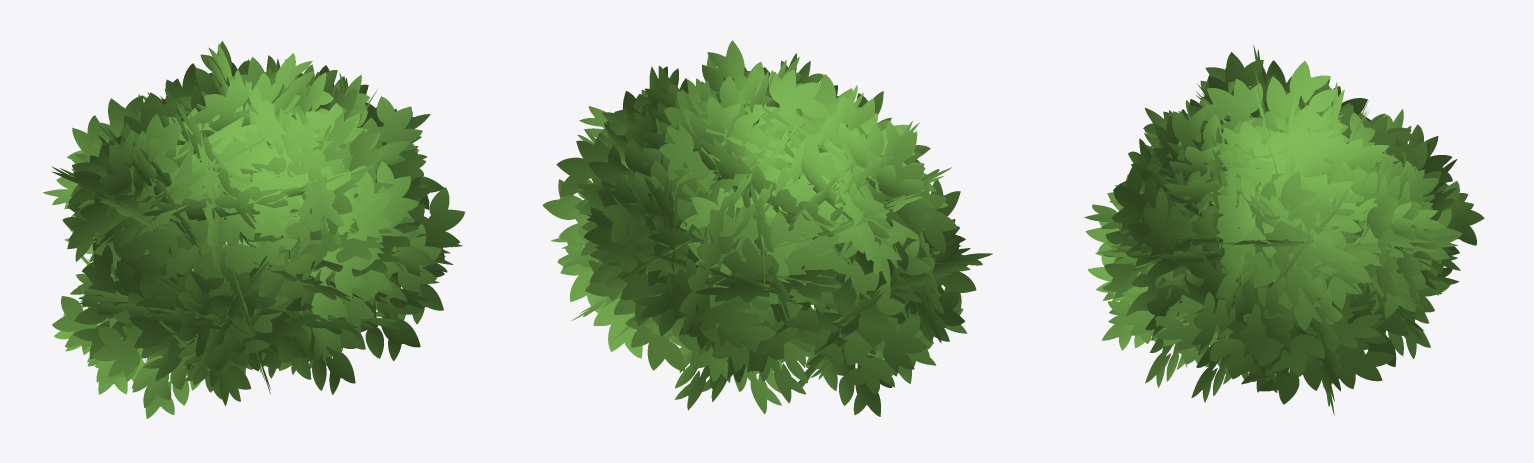
File: SM_Nature_Bush_01.fbx
3 renders of one model, left to right at view 1: azimuth 30°, elevation 25°; view 2: azimuth 150°, elevation 25°; view 3: azimuth 270°, elevation 25°, orthographic. The views are drawn at different scales.
Visible parts, largest first — view 1: Bush_01_LOD0; view 2: Bush_01_LOD0; view 3: Bush_01_LOD0.
Boxes of the visible parts, x1=… form: Bush_01_LOD0: x1=43, y1=41, x2=464, y2=418; Bush_01_LOD0: x1=542, y1=40, x2=992, y2=416; Bush_01_LOD0: x1=1084, y1=45, x2=1484, y2=415.
Size of the model in its own units: 161 by 129 by 152.
